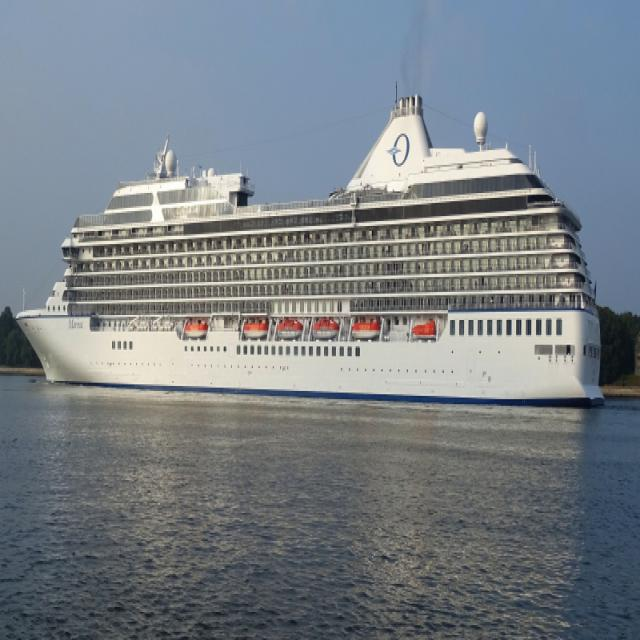cruises: (12, 89, 607, 422)
